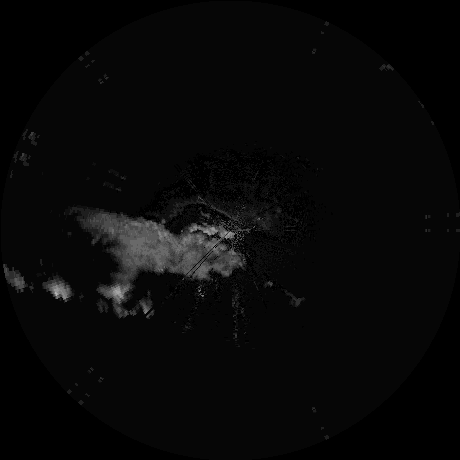frontgust: (192, 197, 244, 227)
